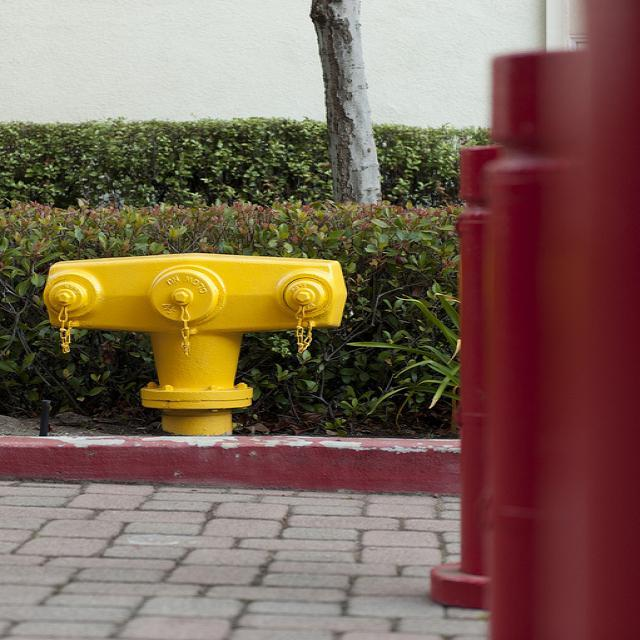fire_hydrant: (40, 249, 347, 436)
